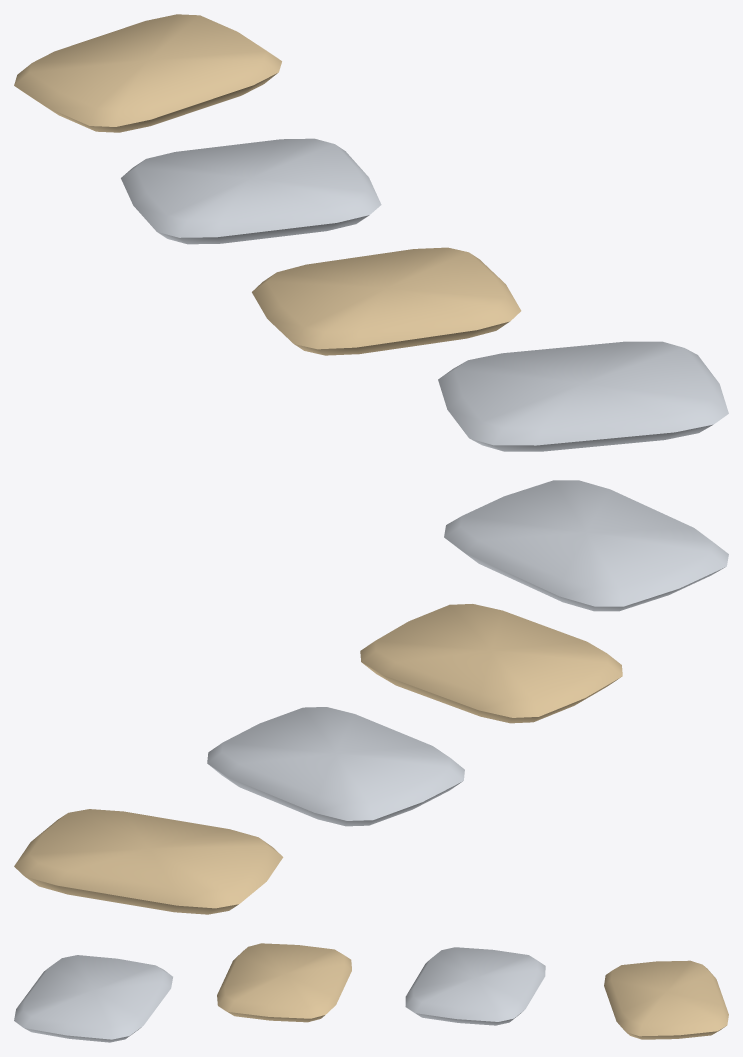
Rendered from caminho_pedras_2m.glb.
The picture shows the model from 3 angles, top to bottom: view 1: azimuth 30°, elevation 25°; view 2: azimuth 150°, elevation 25°; view 3: azimuth 270°, elevation 25°; orthographic projection. The views are drawn at different scales.
Visible parts, largest first — view 1: caminho_pedras_2m; view 2: caminho_pedras_2m; view 3: caminho_pedras_2m.
Part boxes in pixels (x1,y1,x2,y2): caminho_pedras_2m: (14, 14, 728, 451); caminho_pedras_2m: (14, 480, 728, 914); caminho_pedras_2m: (14, 943, 728, 1042).
Size of the model in its own units: 0.5745 by 0.05 by 1.87.
Materials: 1 (1 with a texture image).
